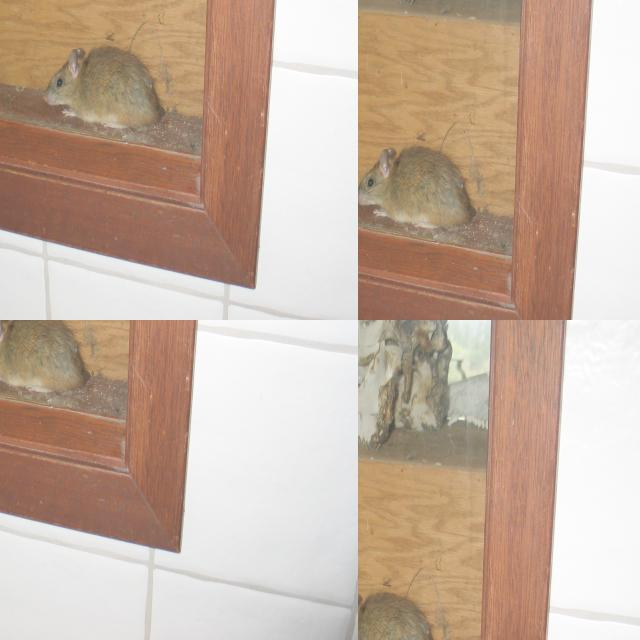rat: (358, 0, 479, 320), (358, 594, 446, 640)
